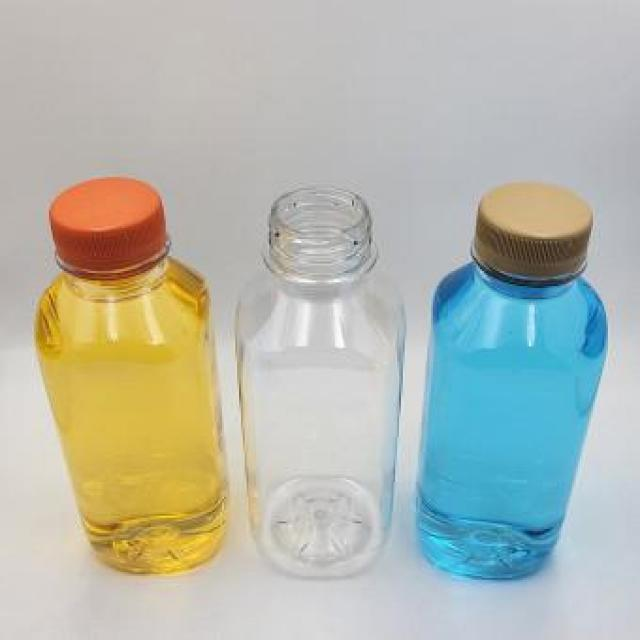bottle: (12, 142, 240, 604), (418, 169, 616, 592)
